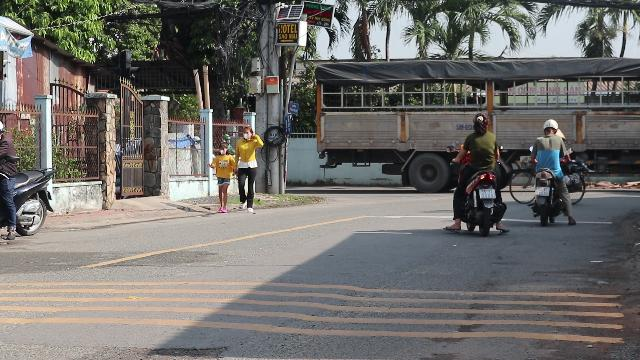licenseplate: (480, 188, 494, 197)
motorcyclist: (448, 113, 507, 235)
nohelmet: (471, 114, 489, 132)
